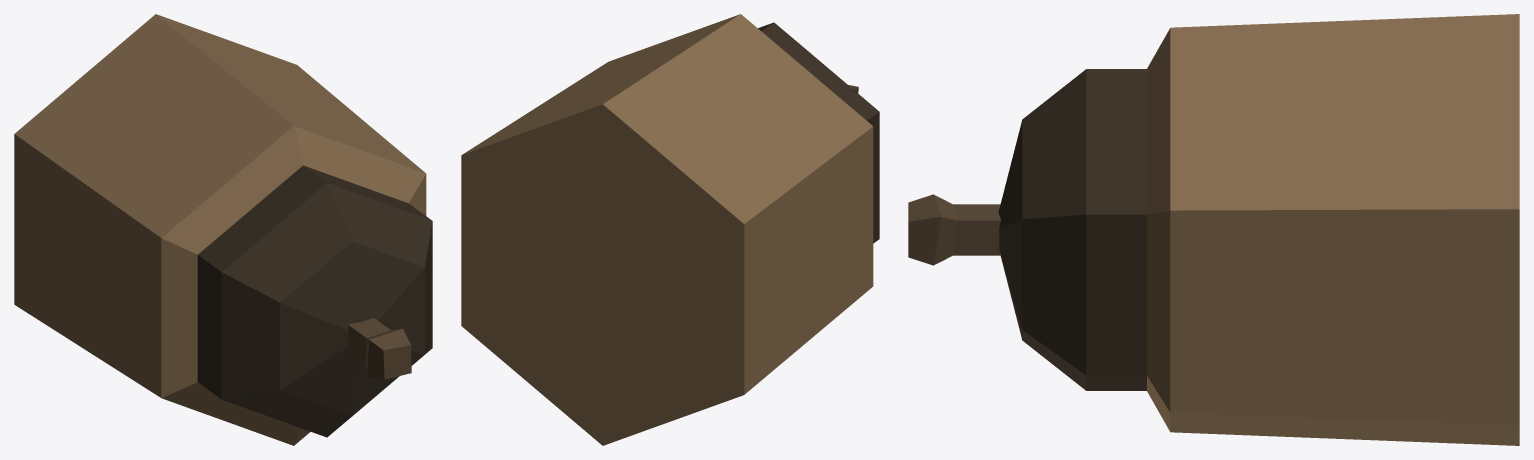
The model's file is SM_Prop_Wires_Switch_01.fbx.
3 views of the same model, side by side, from view 1: azimuth 30°, elevation 25°; view 2: azimuth 150°, elevation 25°; view 3: azimuth 270°, elevation 25° (orthographic). The views are drawn at different scales.
Parts seen in each view (by area): view 1: SM_Prop_Wires_Switch_01, SM_Prop_Wires_Switch_01_Lever; view 2: SM_Prop_Wires_Switch_01; view 3: SM_Prop_Wires_Switch_01, SM_Prop_Wires_Switch_01_Lever.
Boxes of the visible parts, x1,y1,x2,y2 form: SM_Prop_Wires_Switch_01: [14, 14, 432, 445]; SM_Prop_Wires_Switch_01_Lever: [347, 318, 411, 379]; SM_Prop_Wires_Switch_01: [461, 14, 879, 445]; SM_Prop_Wires_Switch_01: [998, 14, 1519, 445]; SM_Prop_Wires_Switch_01_Lever: [908, 194, 1000, 265].
Size of the model in its own units: 10.21 by 11.78 by 15.11.
